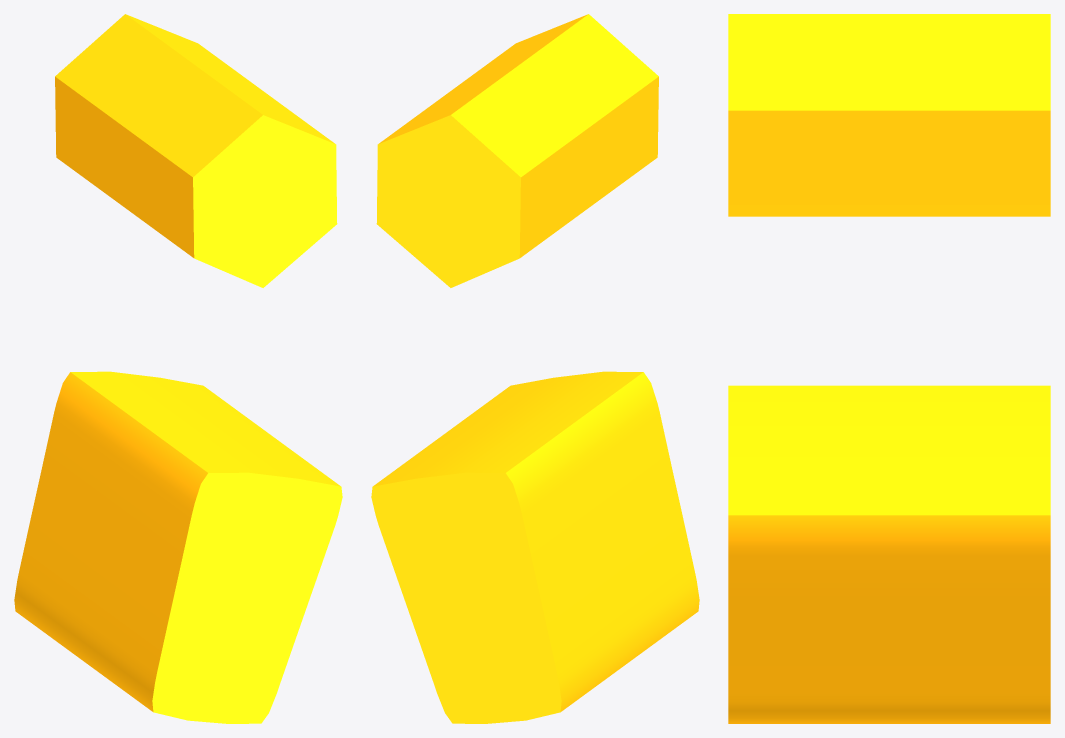
The model's file is symbol;_Zyzol_Yellow.glb.
3 views of the same model, side by side, from view 1: azimuth 30°, elevation 25°; view 2: azimuth 150°, elevation 25°; view 3: azimuth 270°, elevation 25° (orthographic). The views are drawn at different scales.
Visible parts, largest first — view 1: ;_Zyzol_Yellow; view 2: ;_Zyzol_Yellow; view 3: ;_Zyzol_Yellow.
Part boxes in pixels (x1,y1,x2,y2): ;_Zyzol_Yellow: [14, 14, 342, 723]; ;_Zyzol_Yellow: [371, 14, 699, 723]; ;_Zyzol_Yellow: [728, 14, 1050, 723].
Size of what is drawn, in the model's own units: 0.0358 by 0.1094 by 0.045.
Materials: 2 (2 with a texture image).
